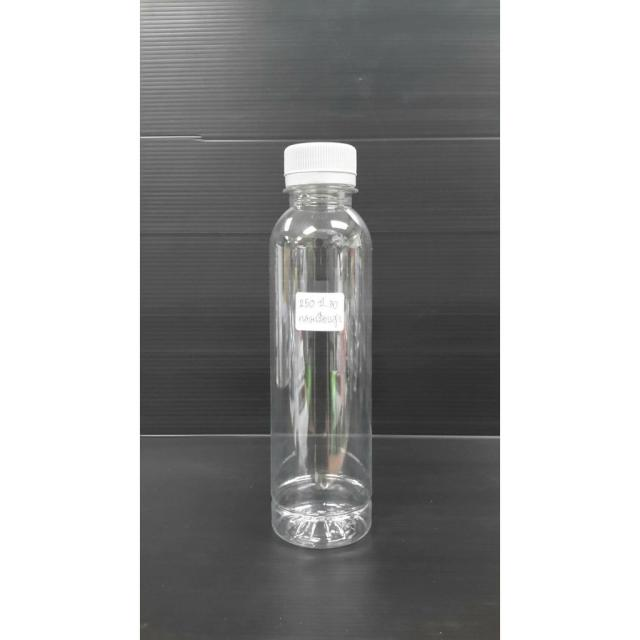bottle: (264, 143, 383, 552)
